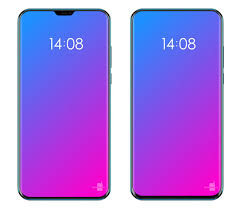lenovo: (14, 6, 111, 201), (129, 7, 226, 202)
